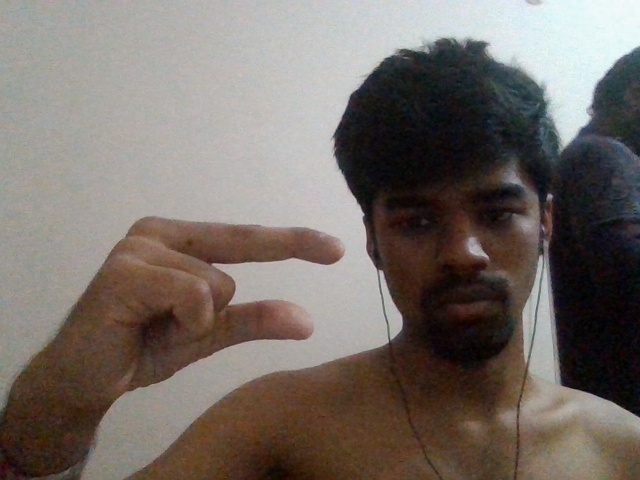No: (63, 205, 354, 374)
